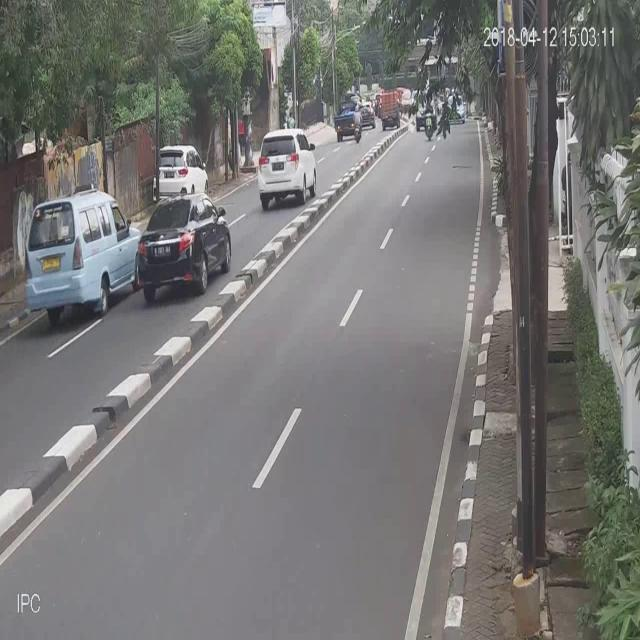motorcycle: (21, 184, 134, 320), (131, 190, 233, 292), (253, 125, 317, 214), (151, 142, 211, 195)
